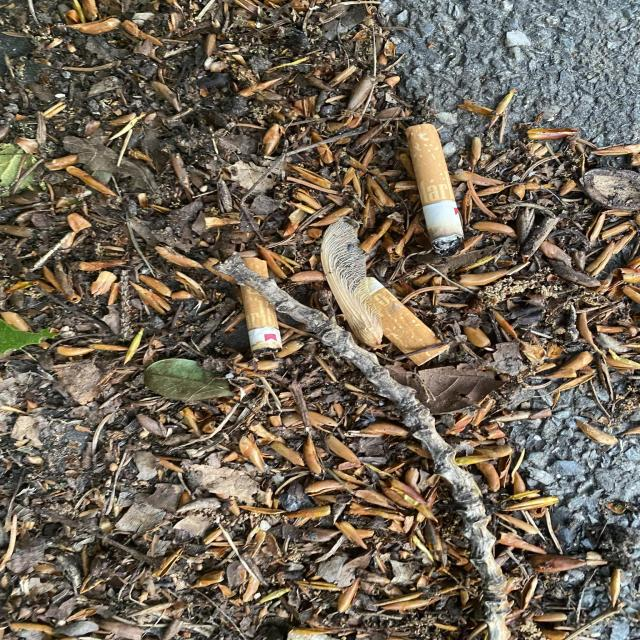other waste: (405, 123, 464, 256), (365, 276, 451, 367), (239, 257, 282, 355)
